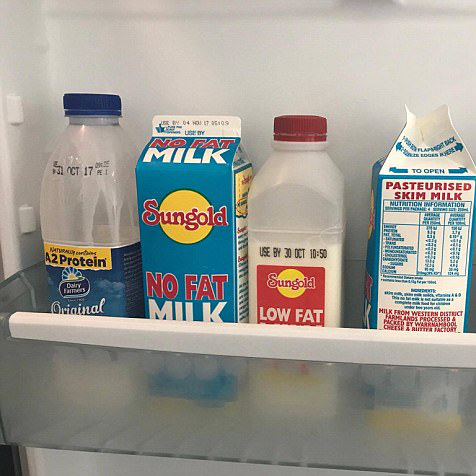milk: (364, 102, 472, 333), (135, 115, 247, 320), (38, 94, 140, 314), (248, 115, 346, 330)
